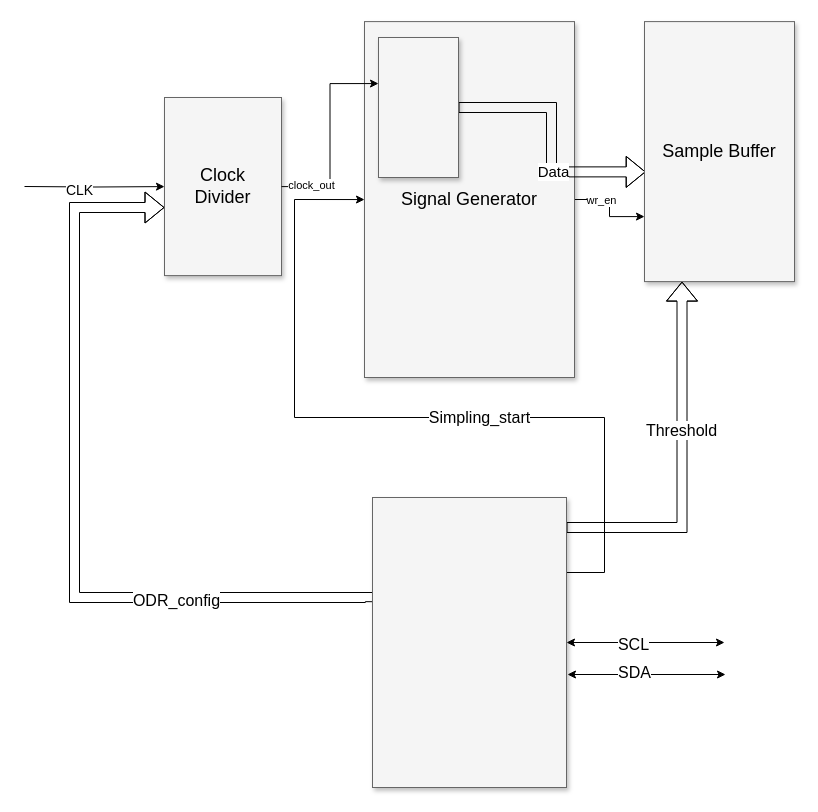
Image size: 818x812. Some labels were removed from this diagram. Here are the shapes that lost their labels. From the top down, the centre of each, then its label:
the point at 419,108: Counter
the point at 470,643: I2C_Slave
